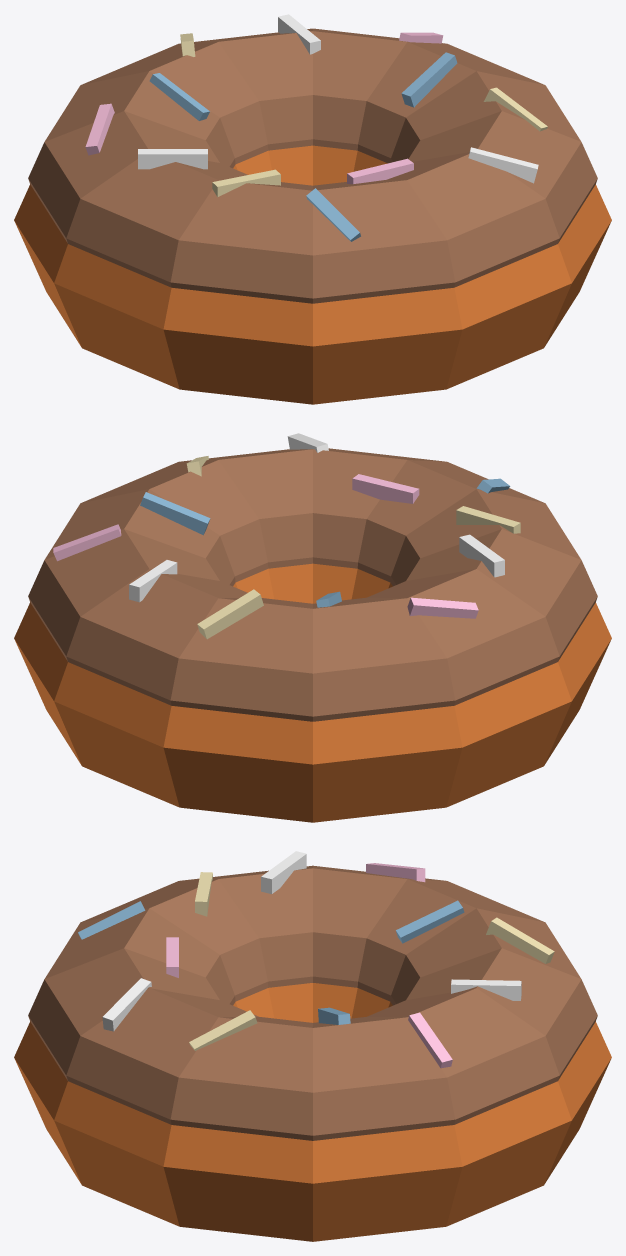
Rendered from CandylandDonut_02.fbx.
3 views of the same model, one above another, from view 1: azimuth 30°, elevation 25°; view 2: azimuth 150°, elevation 25°; view 3: azimuth 270°, elevation 25° (orthographic).
Parts seen in each view (by area): view 1: CandylandDonut_02; view 2: CandylandDonut_02; view 3: CandylandDonut_02.
Part boxes in pixels (left/top/right/bottom): CandylandDonut_02: left=14, top=14, right=611, bottom=404; CandylandDonut_02: left=14, top=433, right=611, bottom=822; CandylandDonut_02: left=14, top=851, right=611, bottom=1241.
Size of the model in its own units: 1.77 by 0.733 by 1.77.
